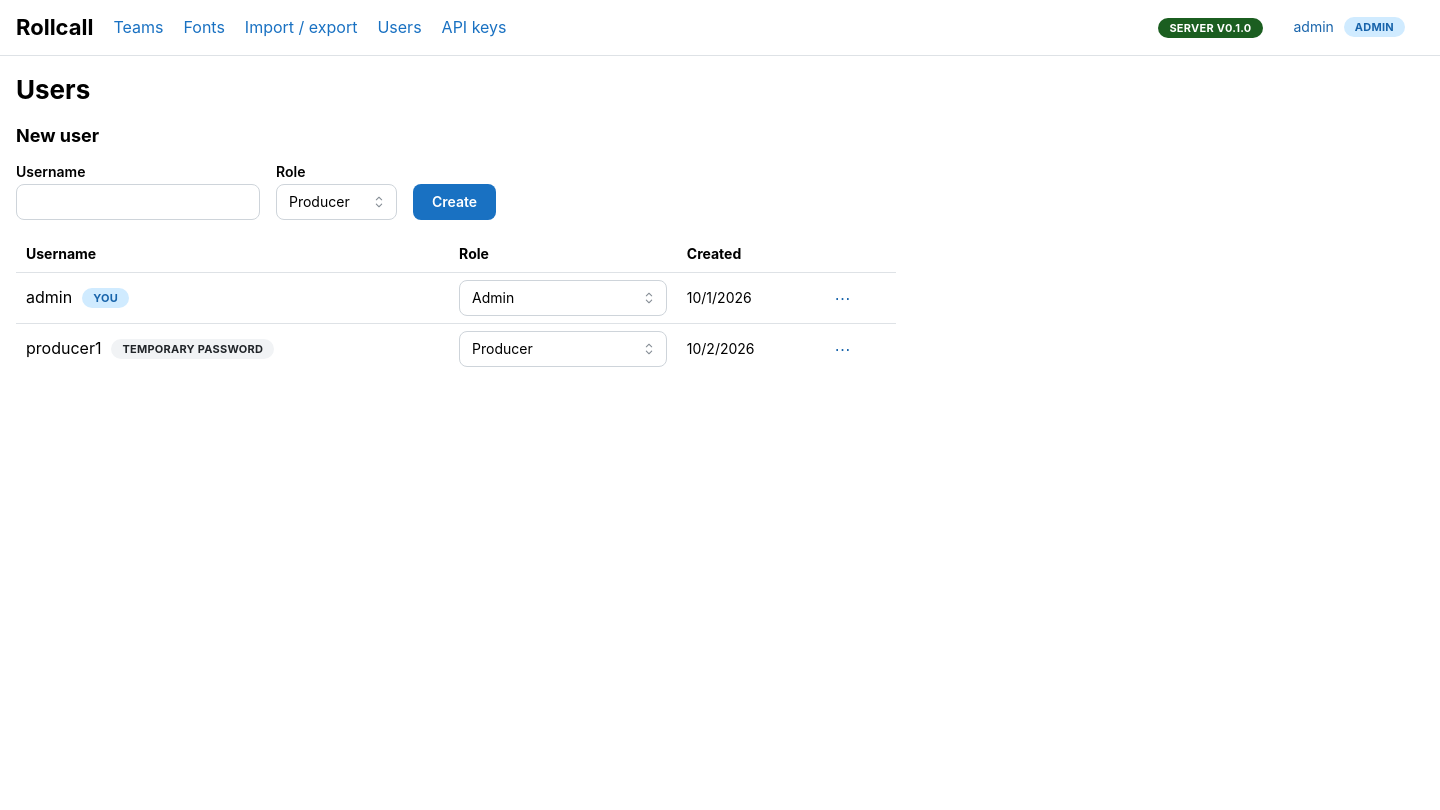
the Users page › creates a user and shows their temporary password once
Expected: the text "producer1" is shown, [26,336,101,361]
Type "Announcer1" into the field labelled "Username" at (138, 202), box [16,184,260,220]
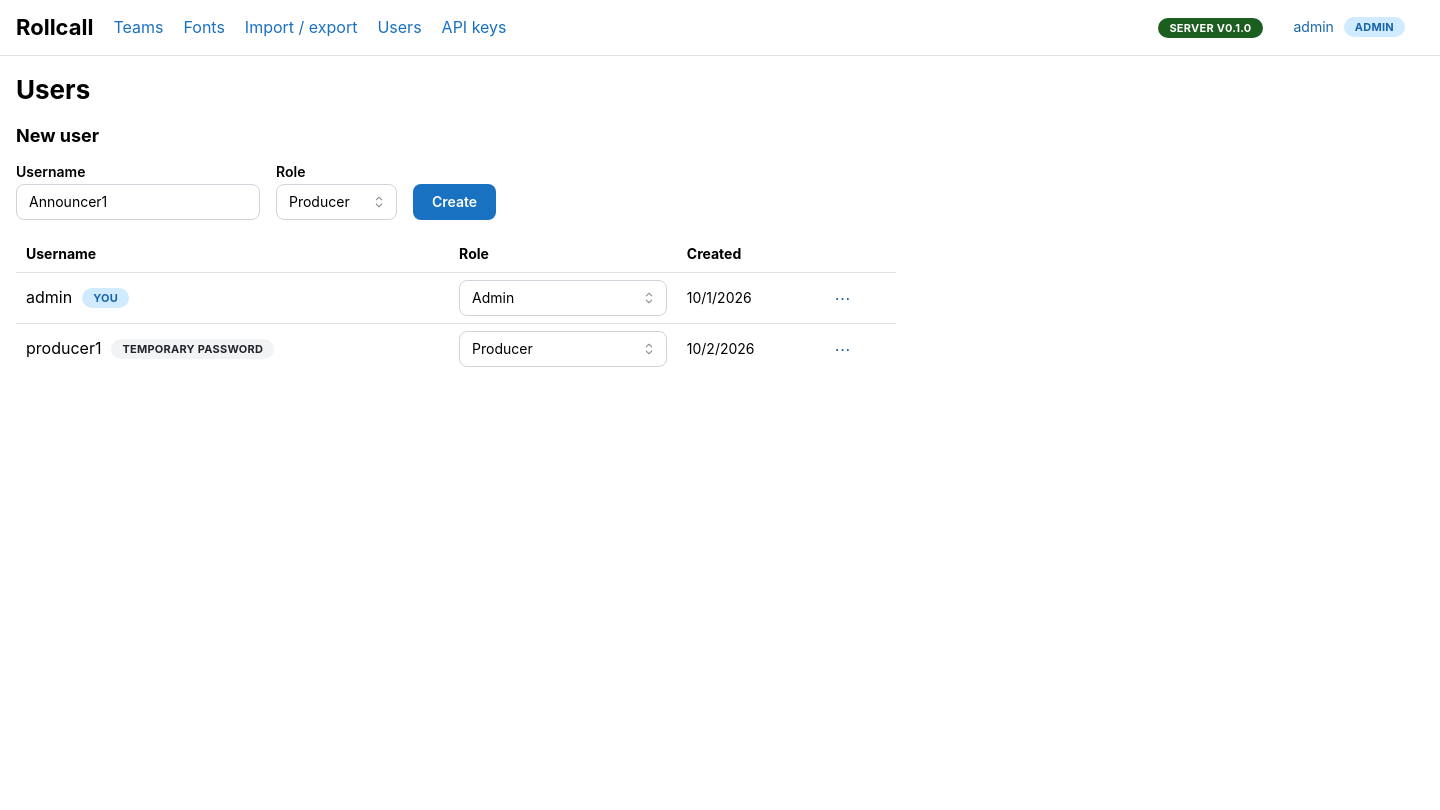
Select "Announcer" in the dropdown labelled "Role" at (336, 202), box [276,184,397,220]
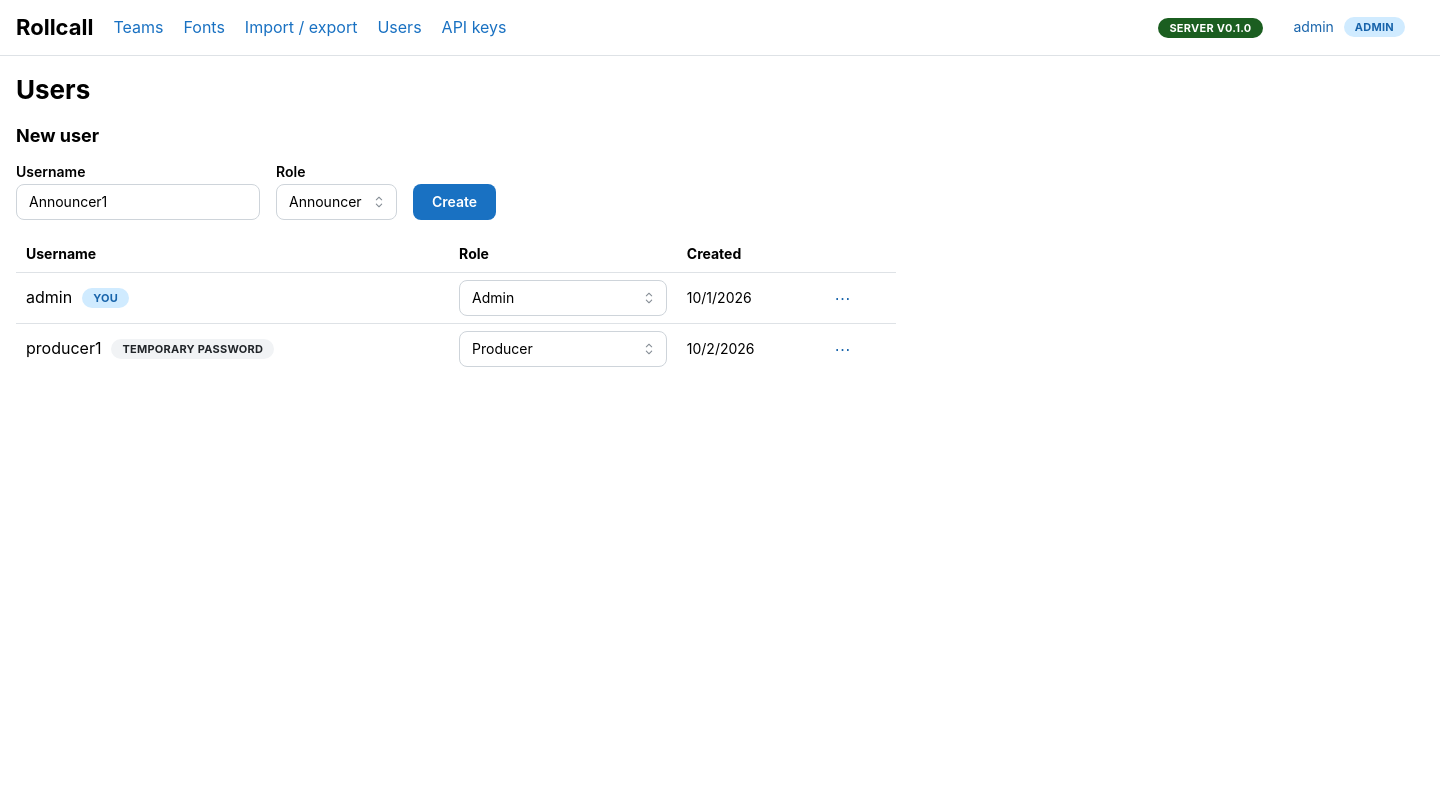
Click the button "Create" at (455, 202), box [413,184,496,220]
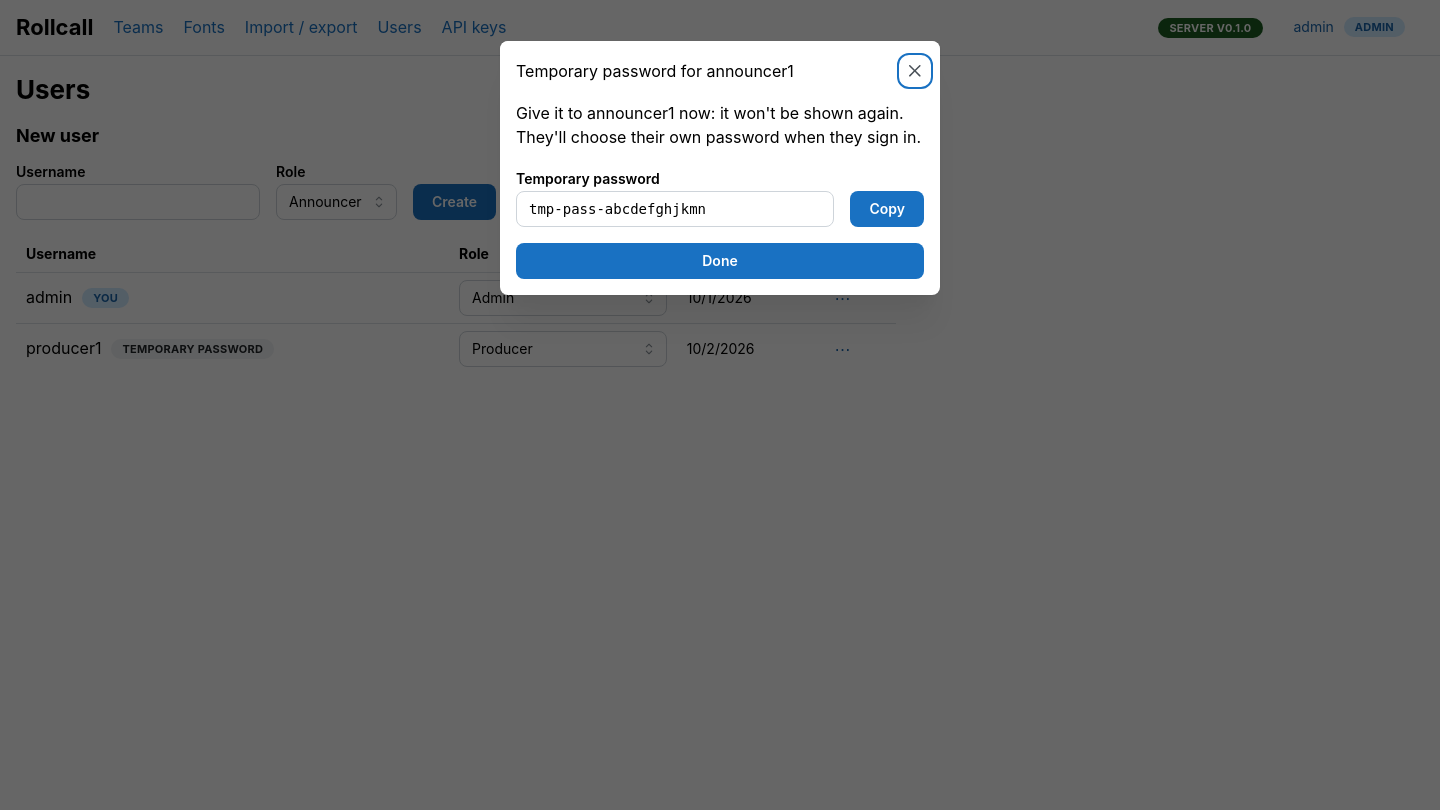
Expected: the field labelled "Temporary password" holds "tmp-pass-abcdefghjkmn", [516,191,834,227]
